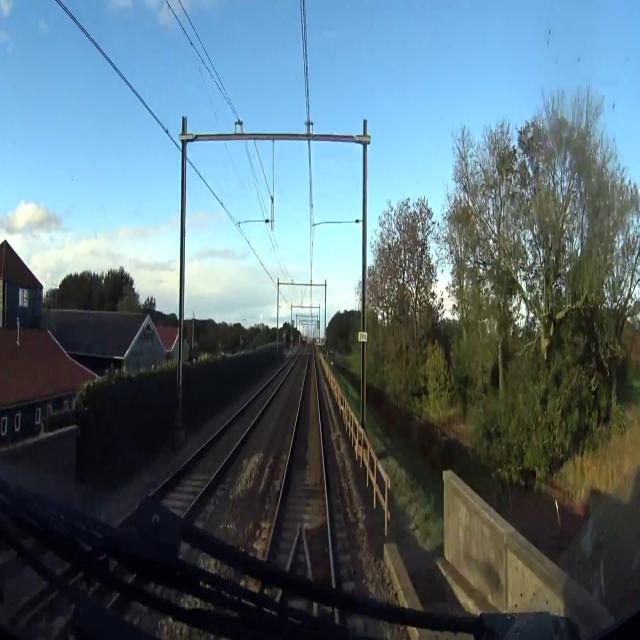rail-track: (154, 359, 294, 514), (269, 349, 331, 583), (113, 521, 126, 535)
